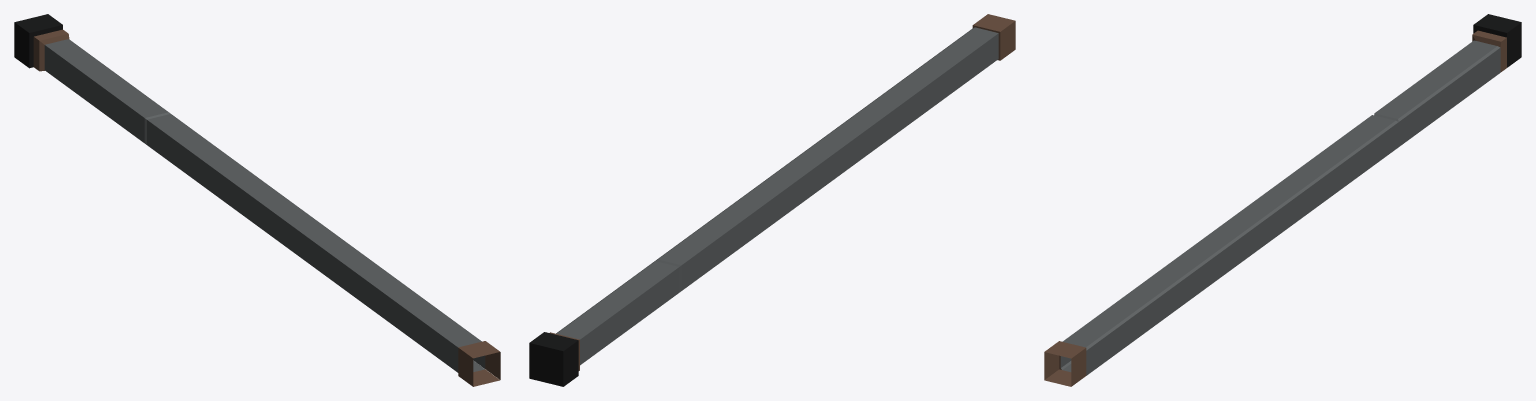
File: BLD_m30_corner_02_a_L.fbx
3 renders of one model, left to right at view 1: azimuth 30°, elevation 25°; view 2: azimuth 150°, elevation 25°; view 3: azimuth 330°, elevation 25°, orthographic.
Visible parts, largest first — view 1: BLD_m30_corner_02_a_L; view 2: BLD_m30_corner_02_a_L; view 3: BLD_m30_corner_02_a_L.
Boxes of the visible parts, x1,y1,x2,y2 form: BLD_m30_corner_02_a_L: (14, 14, 500, 386); BLD_m30_corner_02_a_L: (529, 14, 1015, 386); BLD_m30_corner_02_a_L: (1044, 14, 1521, 386).
Size of the model in its own units: 258 by 258 by 6000.
